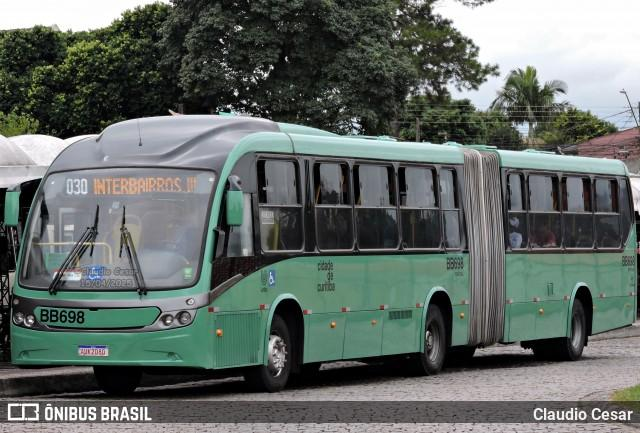INTERBAIRROS III: (85, 173, 204, 198)
